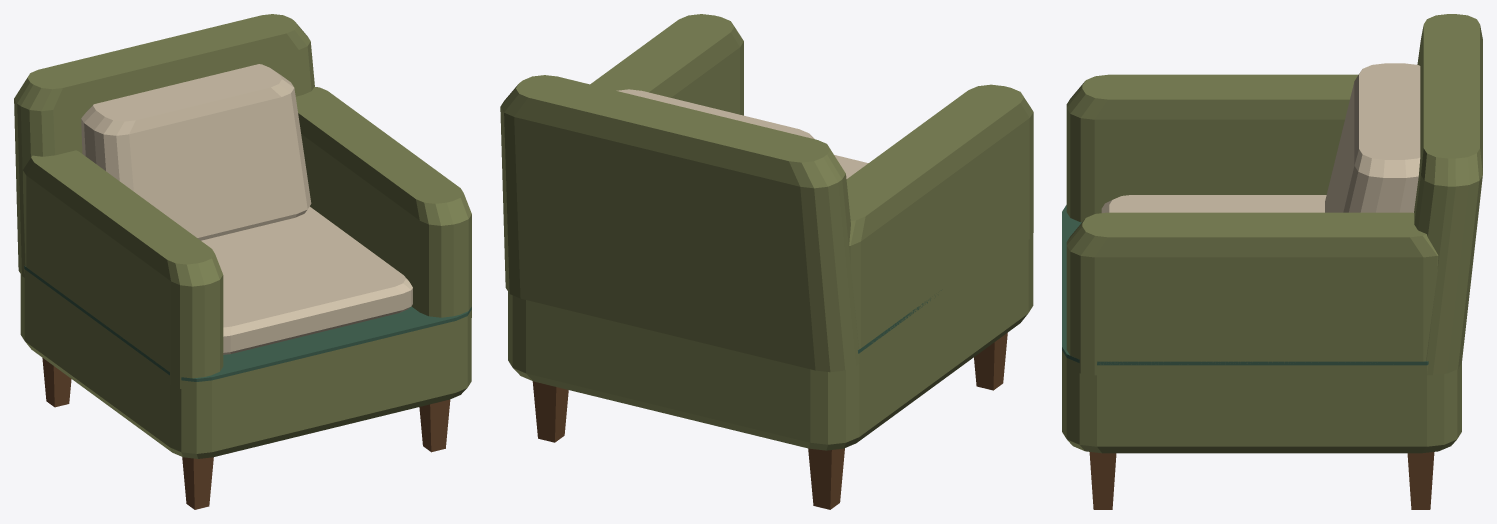
The model's file is FN_Chair_Armchair.glb.
3 views of the same model, side by side, from view 1: azimuth 30°, elevation 25°; view 2: azimuth 150°, elevation 25°; view 3: azimuth 270°, elevation 25° (orthographic). The views are drawn at different scales.
Parts seen in each view (by area): view 1: FN_Chair_Armchair; view 2: FN_Chair_Armchair; view 3: FN_Chair_Armchair.
Boxes of the visible parts, x1,y1,x2,y2 form: FN_Chair_Armchair: [14, 14, 471, 509]; FN_Chair_Armchair: [500, 14, 1033, 509]; FN_Chair_Armchair: [1062, 14, 1482, 509].
Bounding box in the file's own units: 0.78 × 0.782 × 0.842.
Materials: 1 (1 with a texture image).
